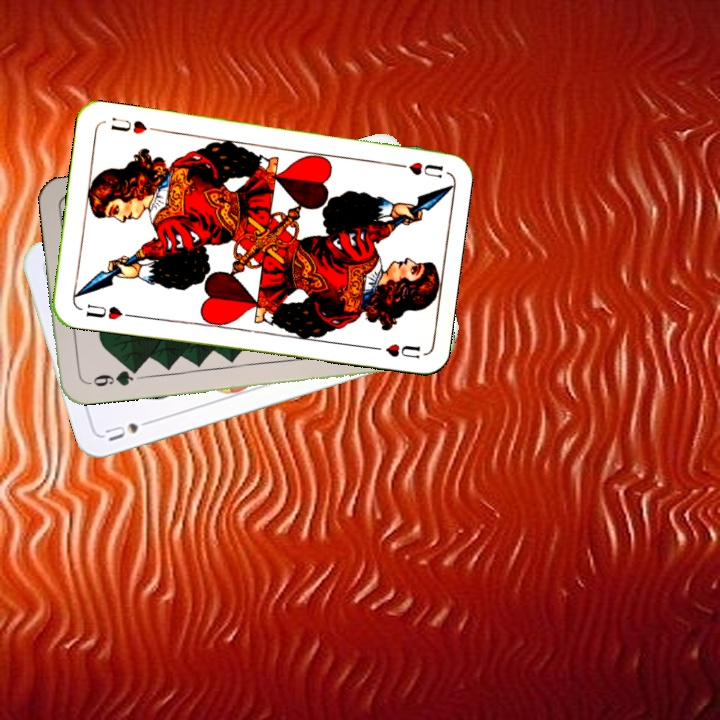G9: (82, 364, 140, 390)
HU: (388, 157, 445, 181), (81, 300, 135, 323)
SU: (100, 414, 158, 444)
